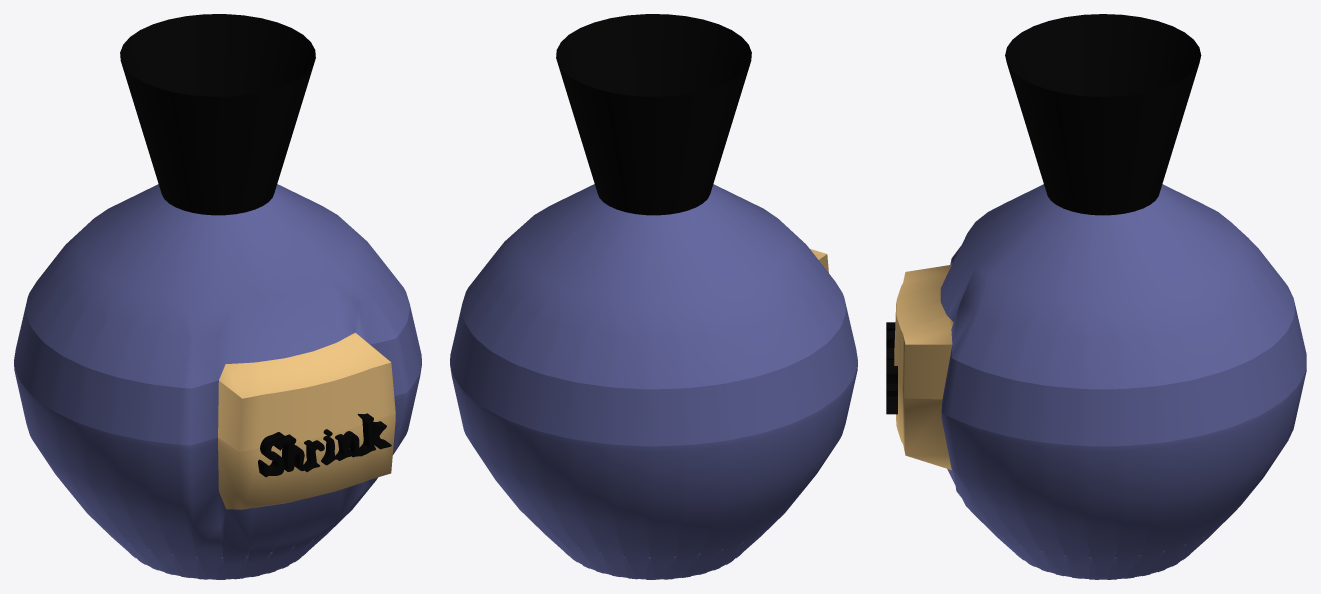
Rendered from shrinkj_potion.fbx.
3 renders of one model, left to right at view 1: azimuth 30°, elevation 25°; view 2: azimuth 150°, elevation 25°; view 3: azimuth 270°, elevation 25°, orthographic.
Parts seen in each view (by area): view 1: Shrink Potion; view 2: Shrink Potion; view 3: Shrink Potion.
Part boxes in pixels (x1,y1,x2,y2): Shrink Potion: (14,14,421,579); Shrink Potion: (450,14,857,579); Shrink Potion: (886,14,1306,579).
Bounding box in the file's own units: 415 × 555 × 428.
